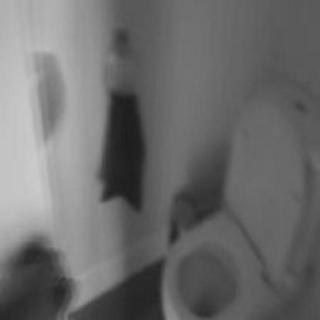other: (83, 91, 181, 214)
